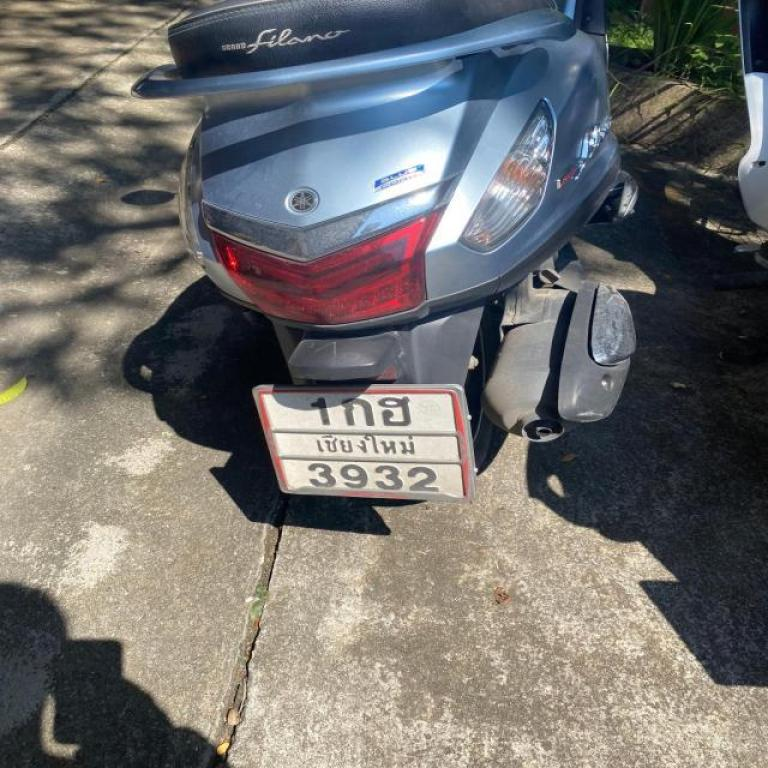license plate: (249, 376, 494, 512)
